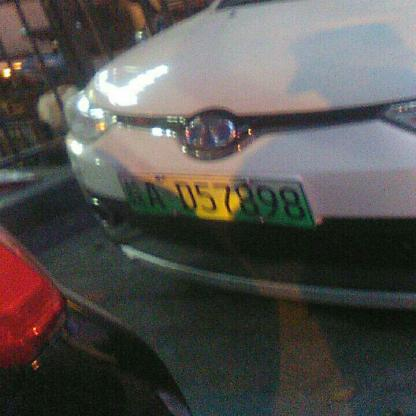lp: (119, 174, 315, 228)
